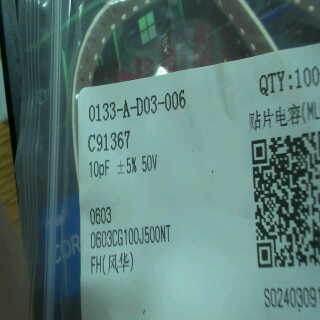10pF: (88, 153, 115, 180)
